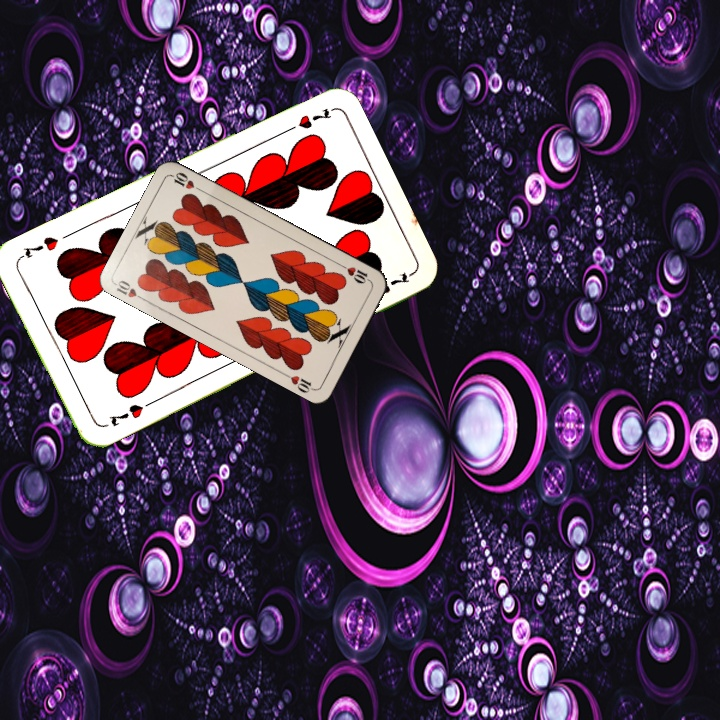H10: (112, 276, 149, 304), (336, 260, 373, 286)
H7: (279, 104, 334, 137), (105, 400, 146, 429)
